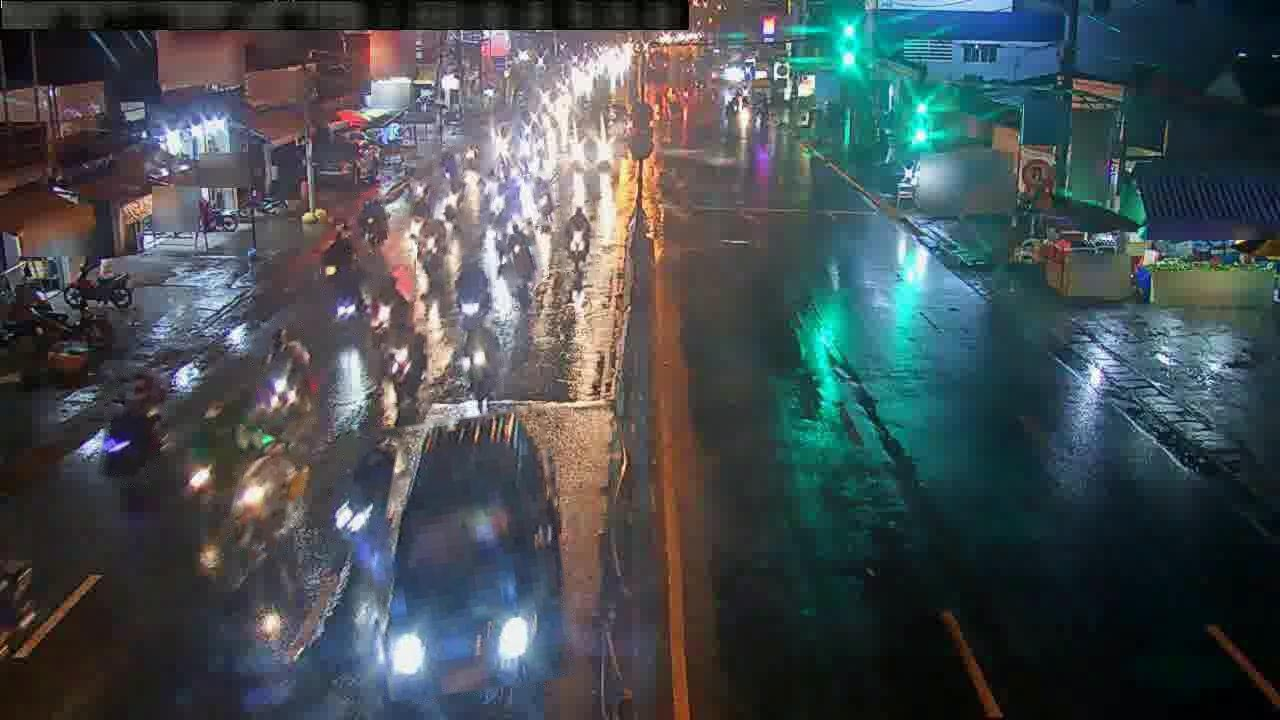Car: (375, 413, 565, 715)
Motorcyclist: (231, 442, 308, 547), (102, 374, 165, 478), (333, 437, 397, 539), (254, 328, 311, 421), (386, 325, 428, 405), (369, 279, 411, 347), (453, 259, 491, 328), (326, 265, 370, 324), (501, 222, 541, 285), (460, 323, 499, 381), (565, 206, 593, 273), (417, 218, 449, 275), (358, 198, 388, 247), (407, 184, 433, 239), (321, 228, 350, 276), (530, 176, 554, 229), (486, 186, 513, 230), (441, 180, 465, 223), (440, 151, 458, 180)
